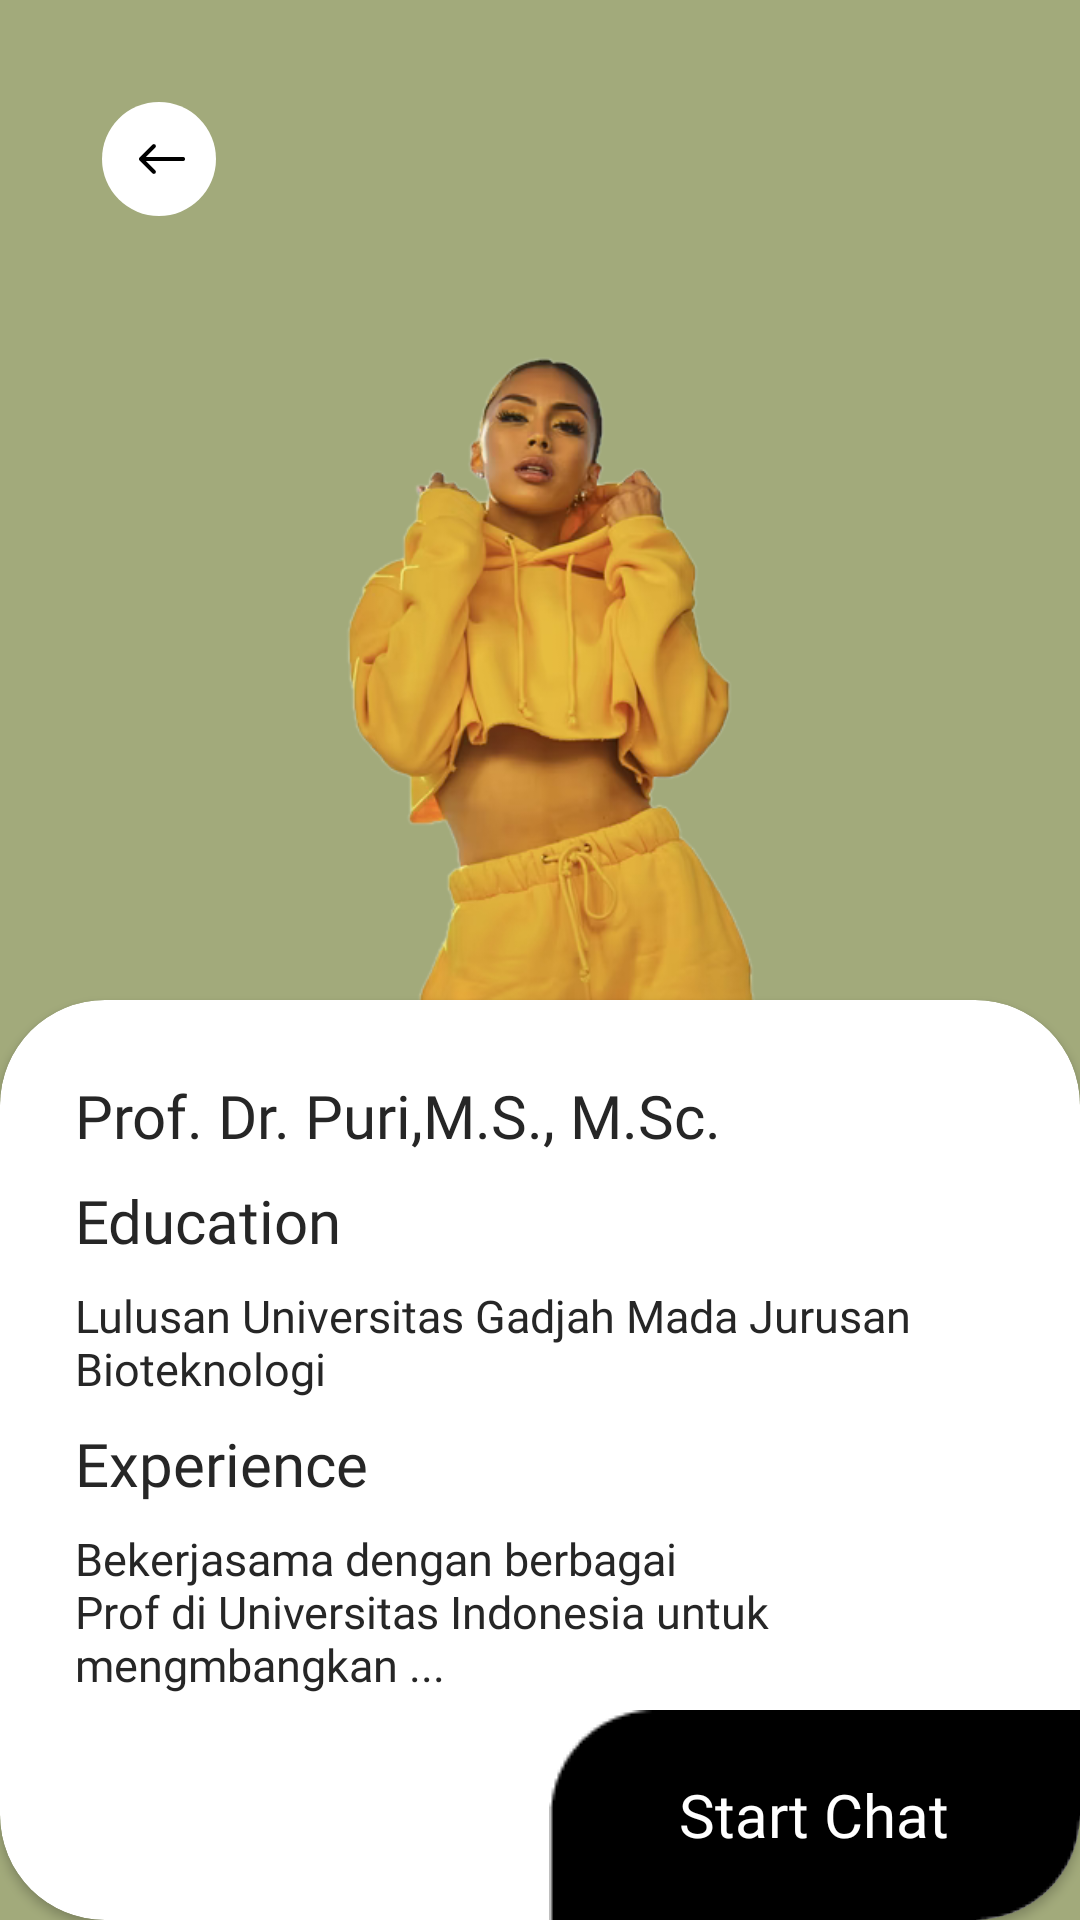

Named icons in this screenshot (1080px x 1920px) and their centers, [x,y]:
back: [159,159]
